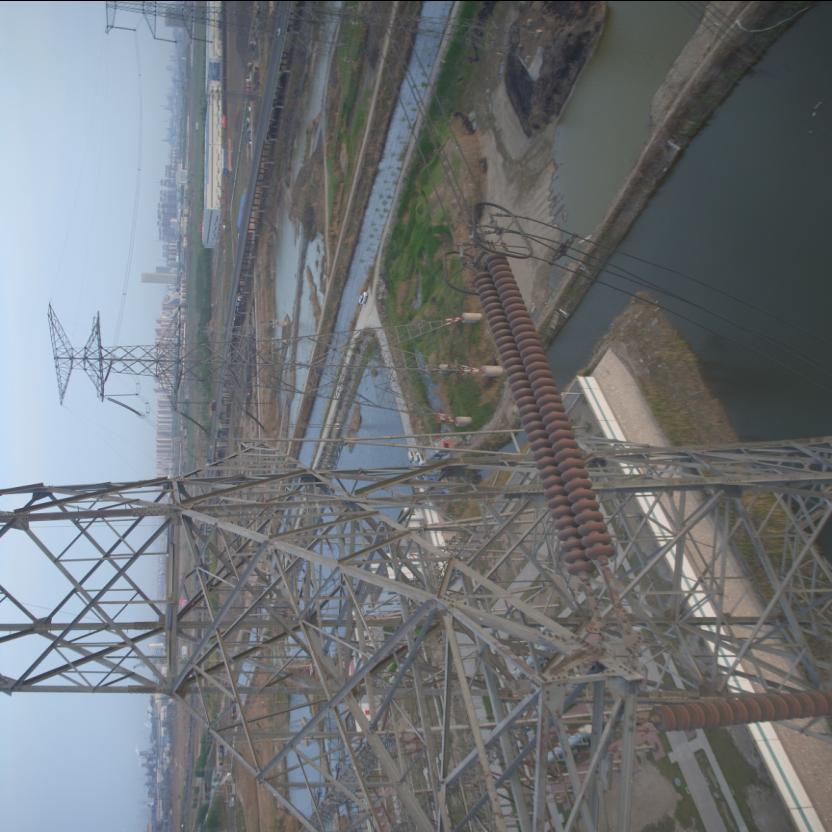insulator: (465, 242, 618, 592)
